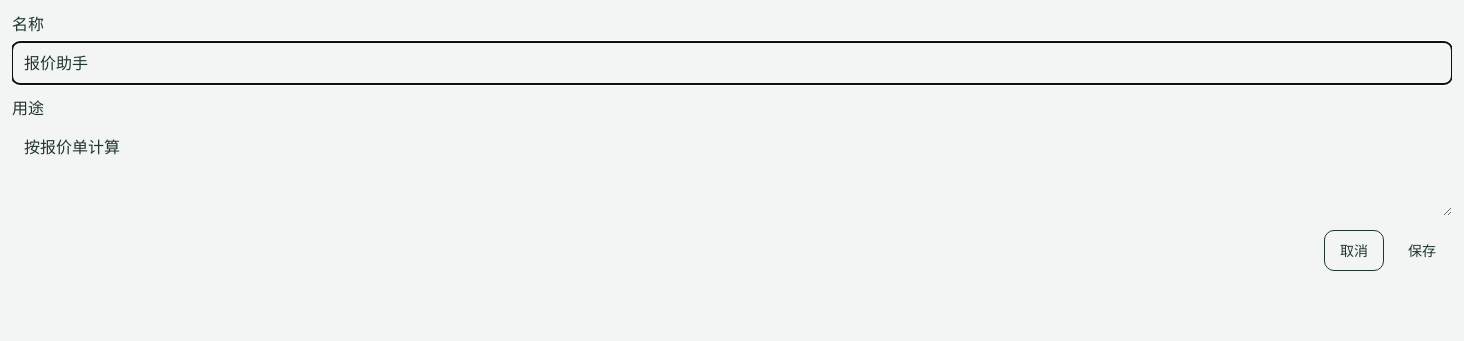
Test: preserves user input on request failure
Replace the text in the field labelled "名称" with "输入的名字" at (732, 63), box [12,42,1452,84]
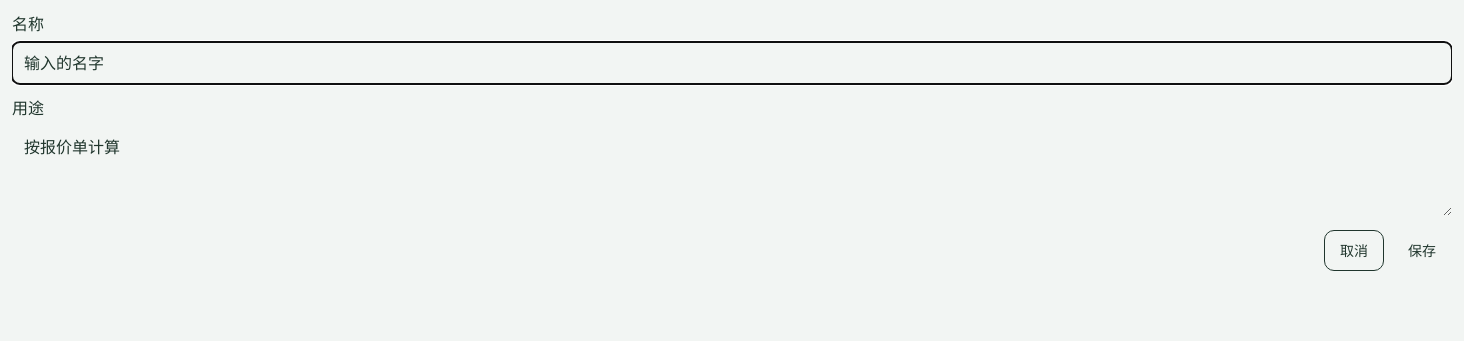
Click the button "保存".
click(1422, 250)  # box [1392,230,1452,271]
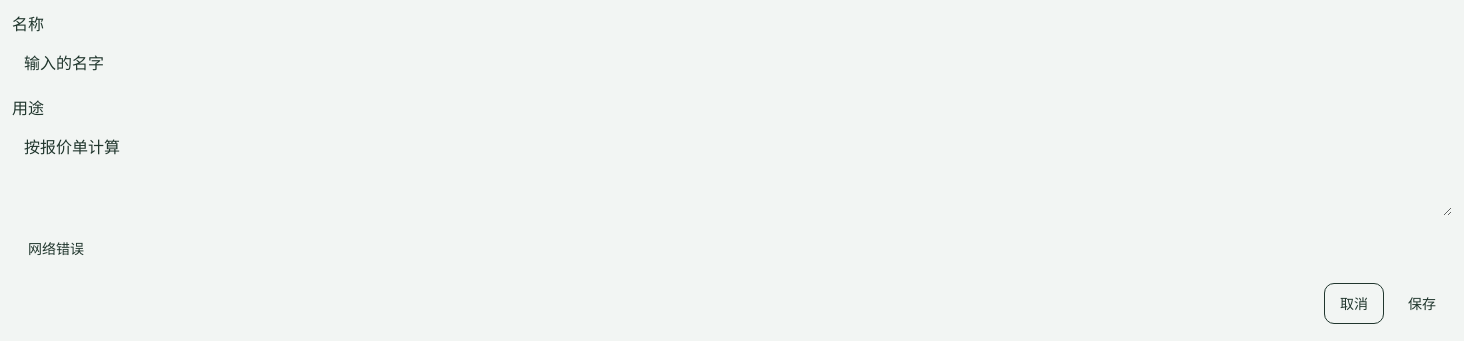
Expected: the text "网络错误" is shown, [28,240,84,257]
